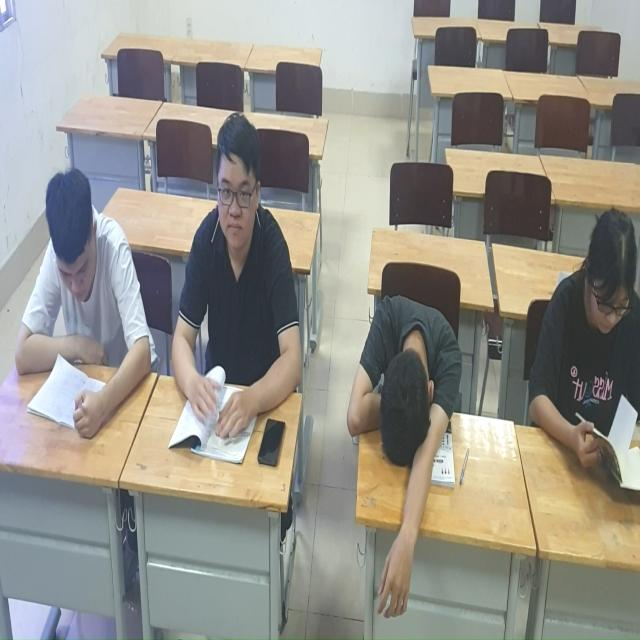read: (169, 112, 298, 449), (7, 156, 144, 440), (514, 204, 640, 502)
sleep: (344, 278, 464, 623)
